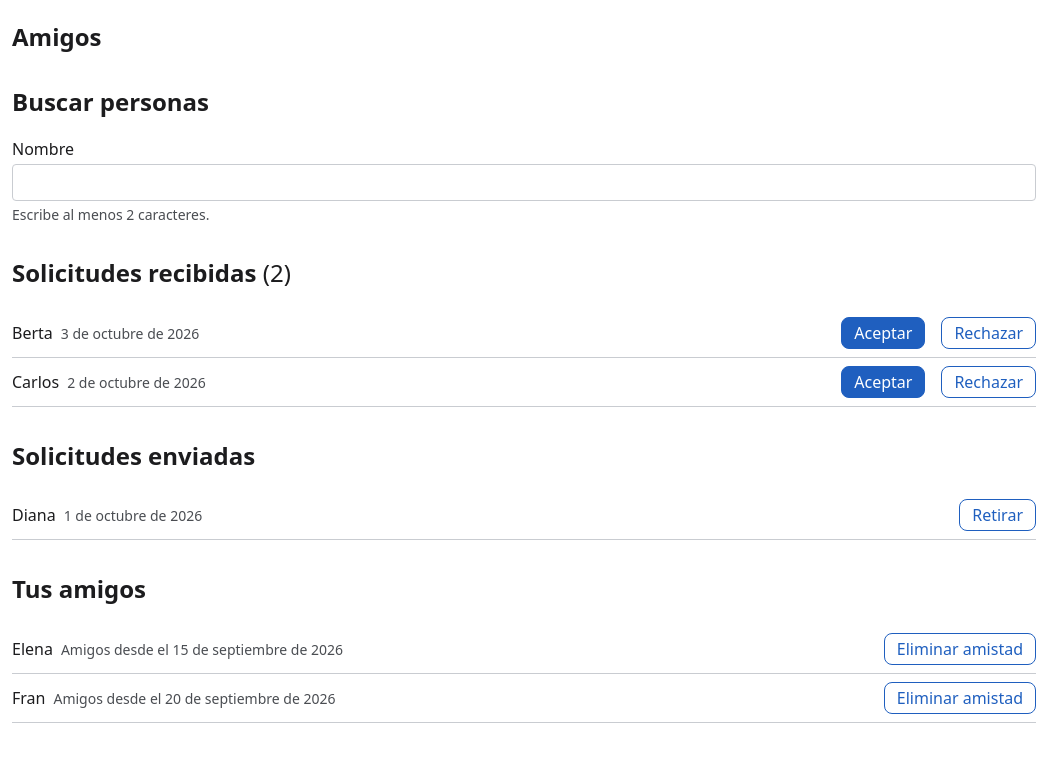
Test: AmigosComponent › aceptar › 404: indica que ya no está pendiente, quita la fila y recarga
Click the button "Aceptar" in the row of "Berta" at (883, 332), box [841,316,925,348]
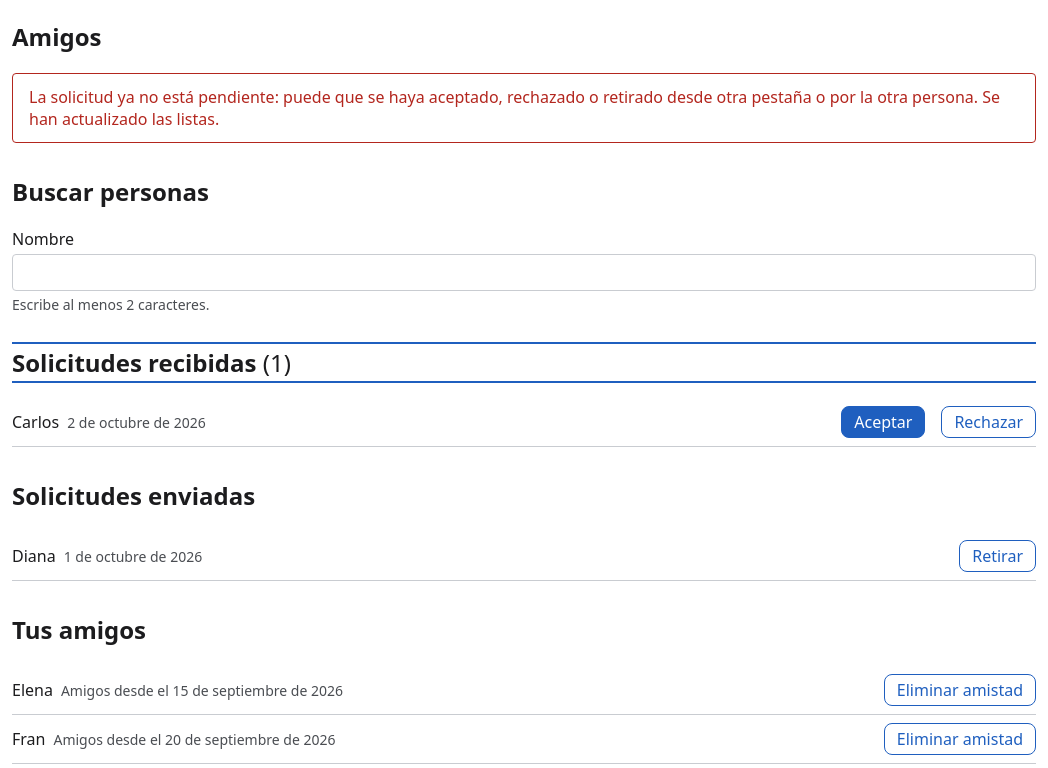
Now the message with class "error-general" shows "ya no está pendiente", box [29,86,1000,130]
